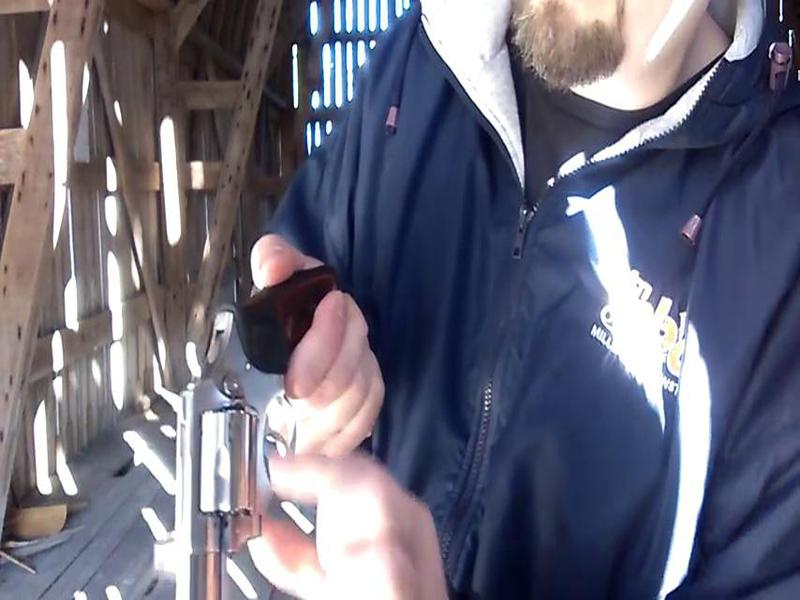Revolver: (185, 250, 353, 600)
